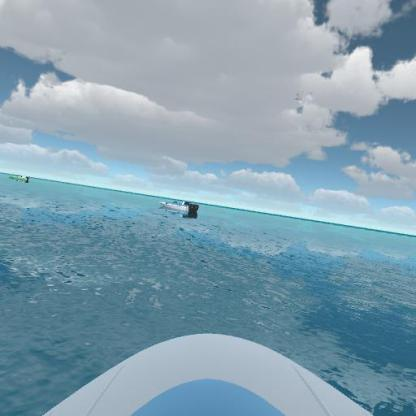usv0: (6, 166, 35, 185)
usv1: (154, 193, 204, 221)
